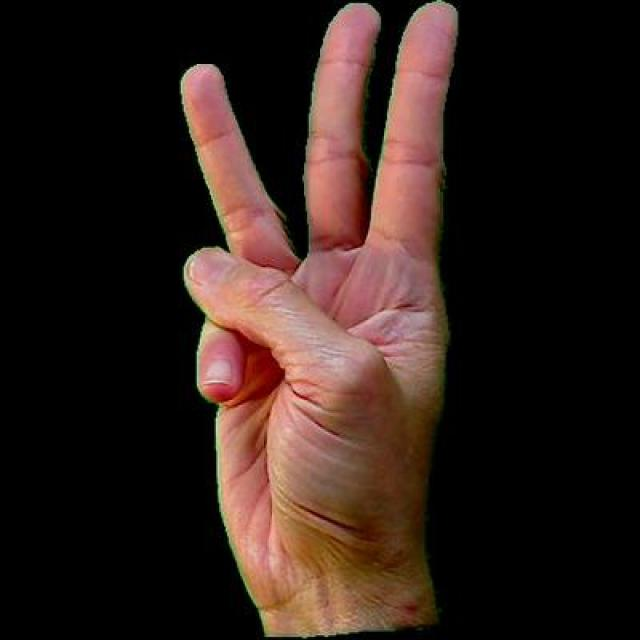w: (174, 0, 470, 637)
